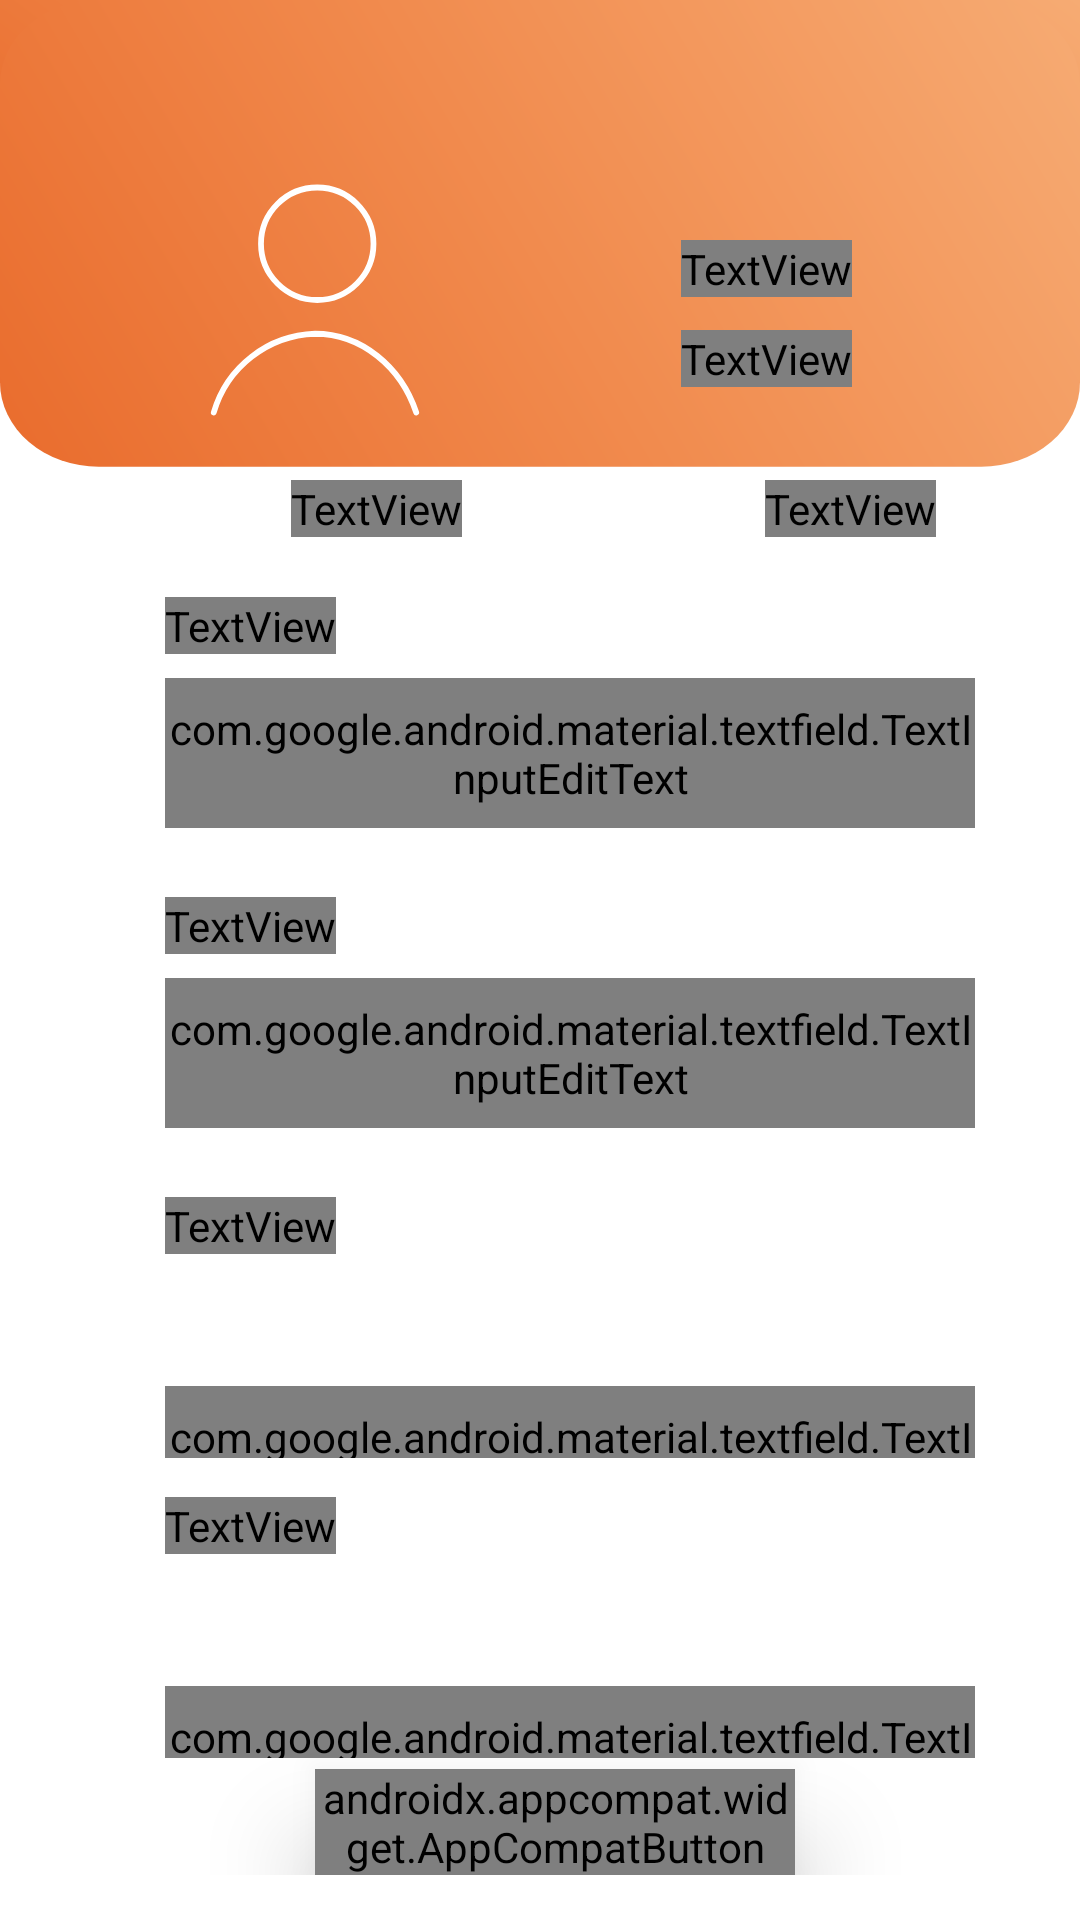

Screen size 1080px×1920px. Icon name, then its center in pixels as [x,y]:
profile: [315,300]
